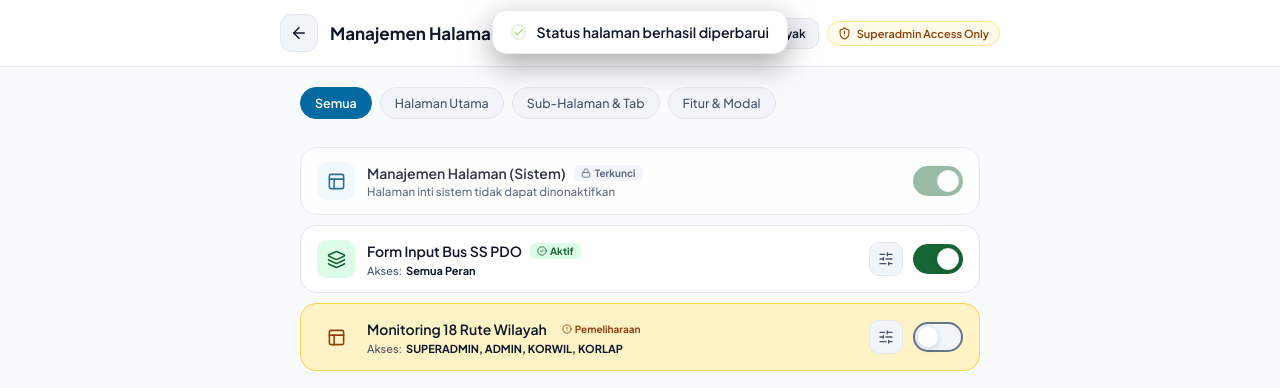
PageManagementPage › menampilkan empty state jika kategori yang difilter tidak memiliki halaman
What coordinates should you click on to do the following:
click the button "Fitur & Modal"
I would click on:
 (722, 103)
Its box is x1=668 y1=87 x2=776 y2=119.
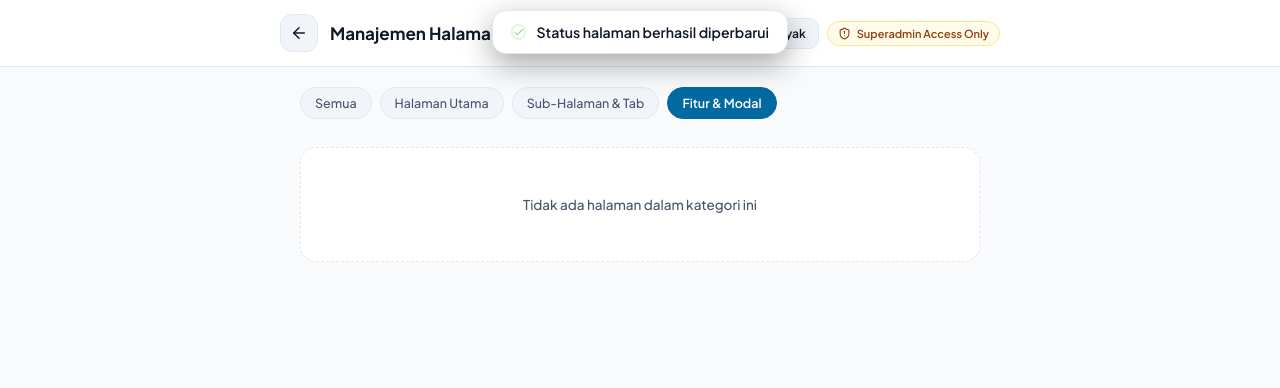
Expected: the text "Tidak ada halaman dalam kategori ini" is shown, x1=523 y1=196 x2=757 y2=213
